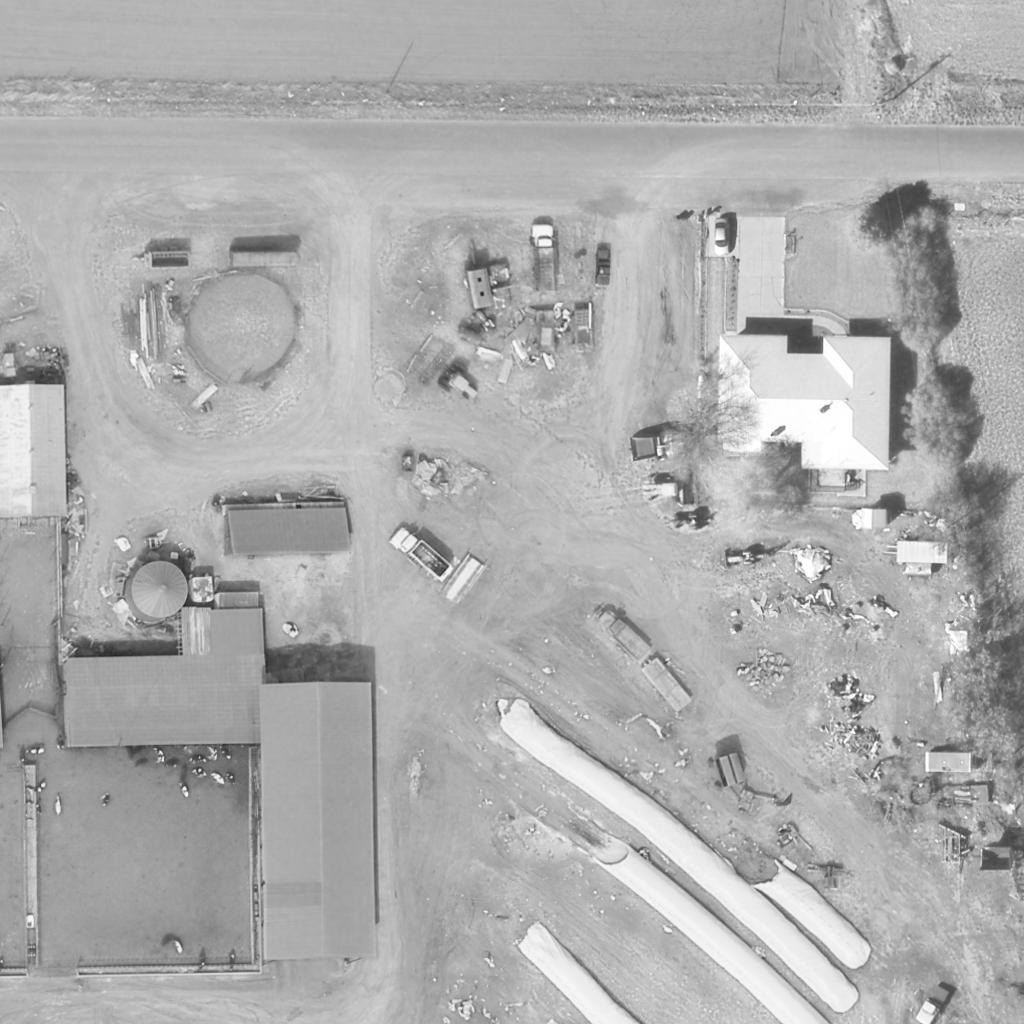vehicle: (386, 525, 454, 585), (590, 608, 654, 662), (433, 362, 491, 406), (530, 222, 558, 294), (895, 541, 949, 577), (914, 985, 952, 1024), (923, 750, 973, 778), (712, 217, 732, 259), (596, 248, 612, 288)
